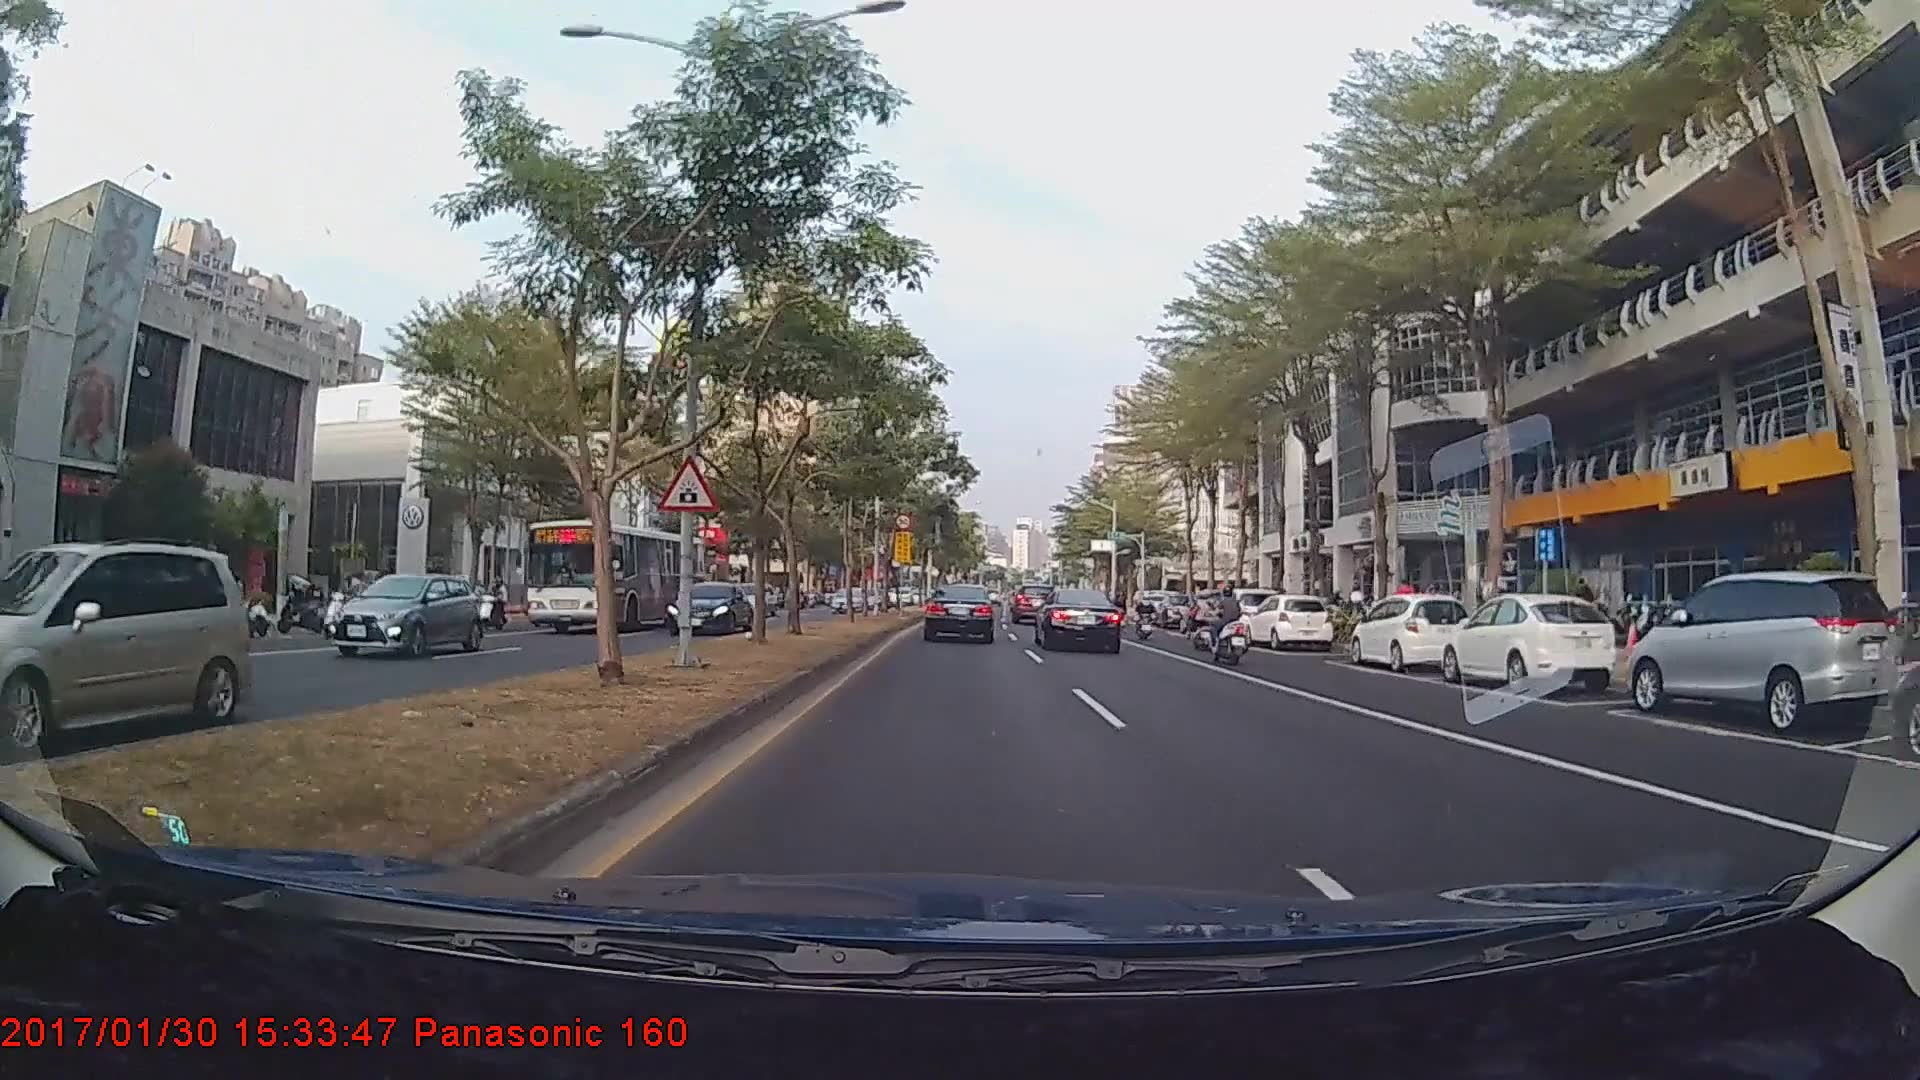rider: (1203, 582, 1256, 667), (1190, 590, 1231, 650), (1135, 586, 1160, 642)
vehicle: (0, 541, 252, 747), (1624, 569, 1898, 730), (524, 519, 710, 635), (1439, 592, 1618, 693), (327, 572, 485, 657), (1350, 592, 1472, 670), (1036, 587, 1123, 654), (1244, 592, 1335, 649), (666, 578, 753, 635), (922, 581, 997, 644), (1197, 582, 1281, 636), (727, 581, 777, 618), (1010, 584, 1054, 622), (827, 582, 867, 609)
